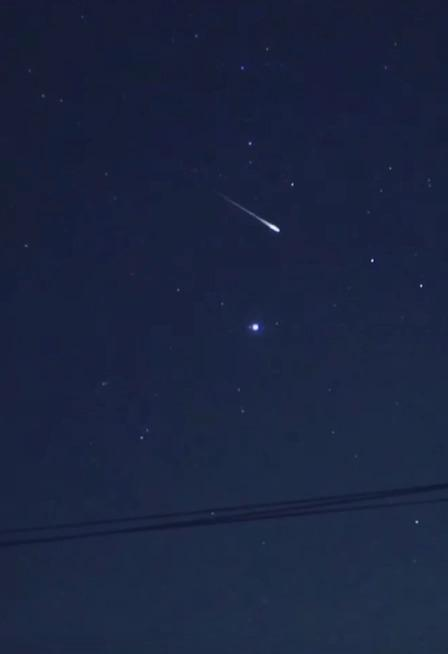meteorite: (206, 178, 294, 245)
